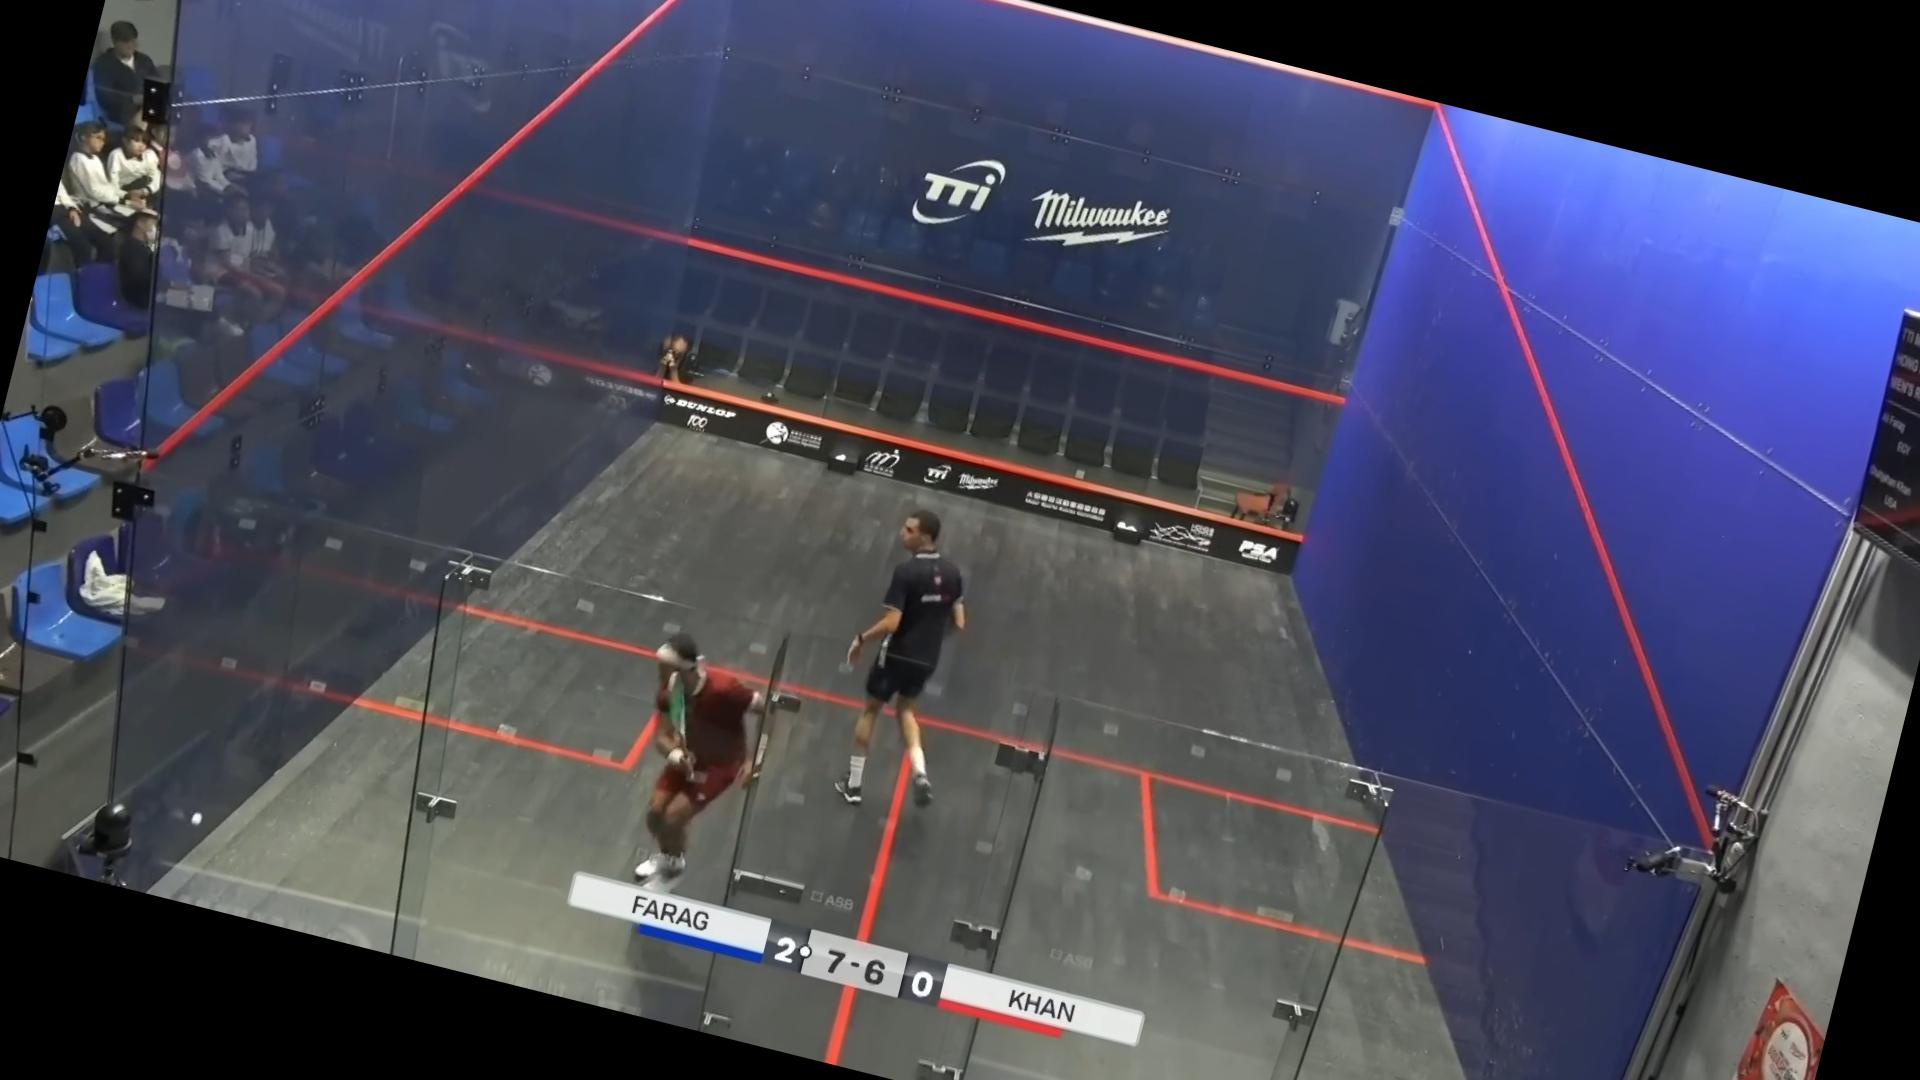Racket: (632, 662, 712, 749)
